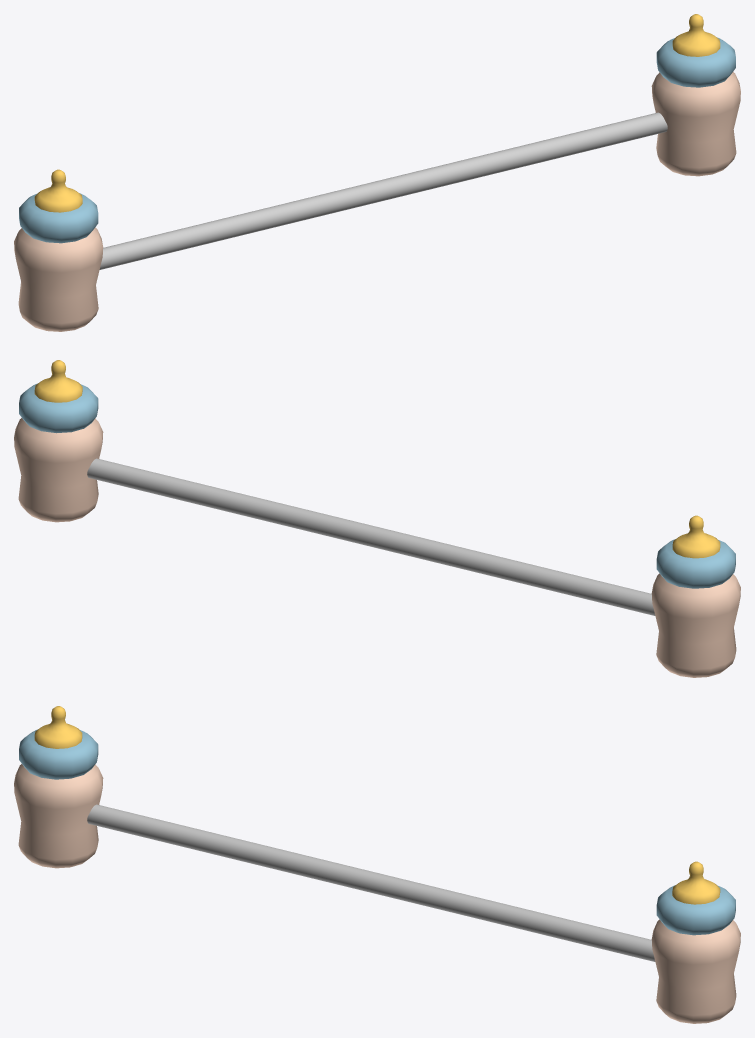
3 views of the same model, one above another, from view 1: azimuth 30°, elevation 25°; view 2: azimuth 150°, elevation 25°; view 3: azimuth 330°, elevation 25° (orthographic).
Parts seen in each view (by area): view 1: milk bottle.005, Cylinder; view 2: milk bottle.005, Cylinder; view 3: milk bottle.005, Cylinder.
Part boxes in pixels (x1=…): milk bottle.005: x1=14, y1=14, x2=740, y2=331; Cylinder: x1=99, y1=112, x2=667, y2=269; milk bottle.005: x1=14, y1=360, x2=740, y2=677; Cylinder: x1=87, y1=458, x2=655, y2=615; milk bottle.005: x1=14, y1=706, x2=740, y2=1023; Cylinder: x1=87, y1=804, x2=655, y2=961.
Size of the model in its own units: 1.43 by 0.2822 by 0.1563.
Materials: 2 (1 with a texture image).
